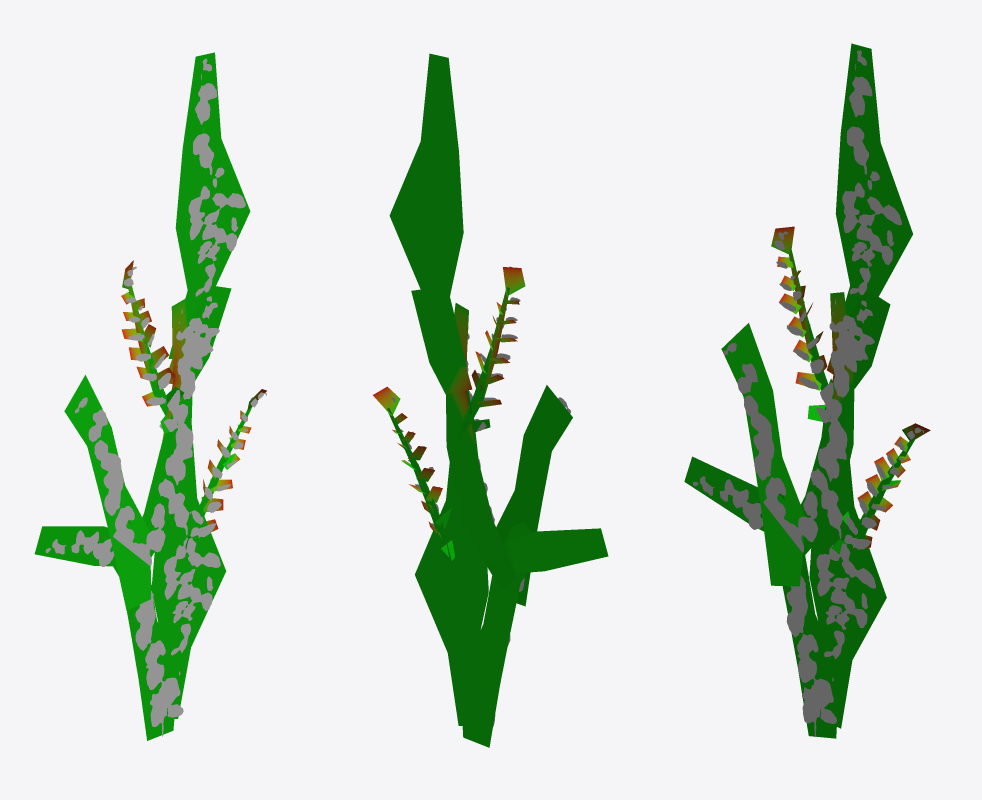
The model's file is Ivy_A1.fbx.
3 views of the same model, side by side, from view 1: azimuth 30°, elevation 25°; view 2: azimuth 150°, elevation 25°; view 3: azimuth 330°, elevation 25° (orthographic). The views are drawn at different scales.
Visible parts, largest first — view 1: Ivy_A1_LOD0, Ivy_A1_Billboard; view 2: Ivy_A1_LOD0, Ivy_A1_Billboard; view 3: Ivy_A1_LOD0, Ivy_A1_Billboard.
Part boxes in pixels (left/top/right/bottom): Ivy_A1_LOD0: left=34, top=52, right=266, bottom=740; Ivy_A1_Billboard: left=45, top=58, right=266, bottom=736; Ivy_A1_LOD0: left=373, top=53, right=608, bottom=747; Ivy_A1_Billboard: left=385, top=266, right=570, bottom=726; Ivy_A1_LOD0: left=684, top=43, right=930, bottom=738; Ivy_A1_Billboard: left=693, top=50, right=923, bottom=736.
Size of what is drawn, in the model's own units: 41.33 by 99.23 by 3.35.
